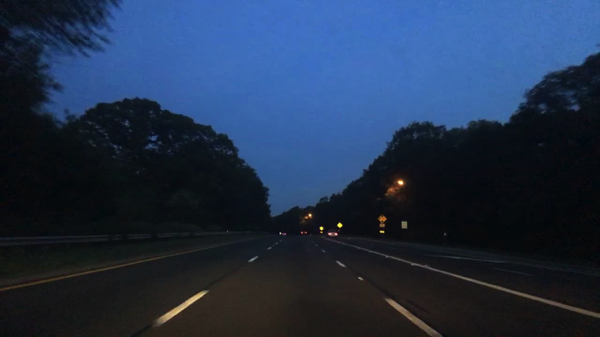car: (326, 230, 338, 239), (301, 230, 308, 236), (281, 232, 286, 236)
traffic sign: (378, 214, 386, 223), (401, 221, 407, 228), (336, 222, 342, 228), (379, 223, 385, 228), (319, 226, 323, 232)
